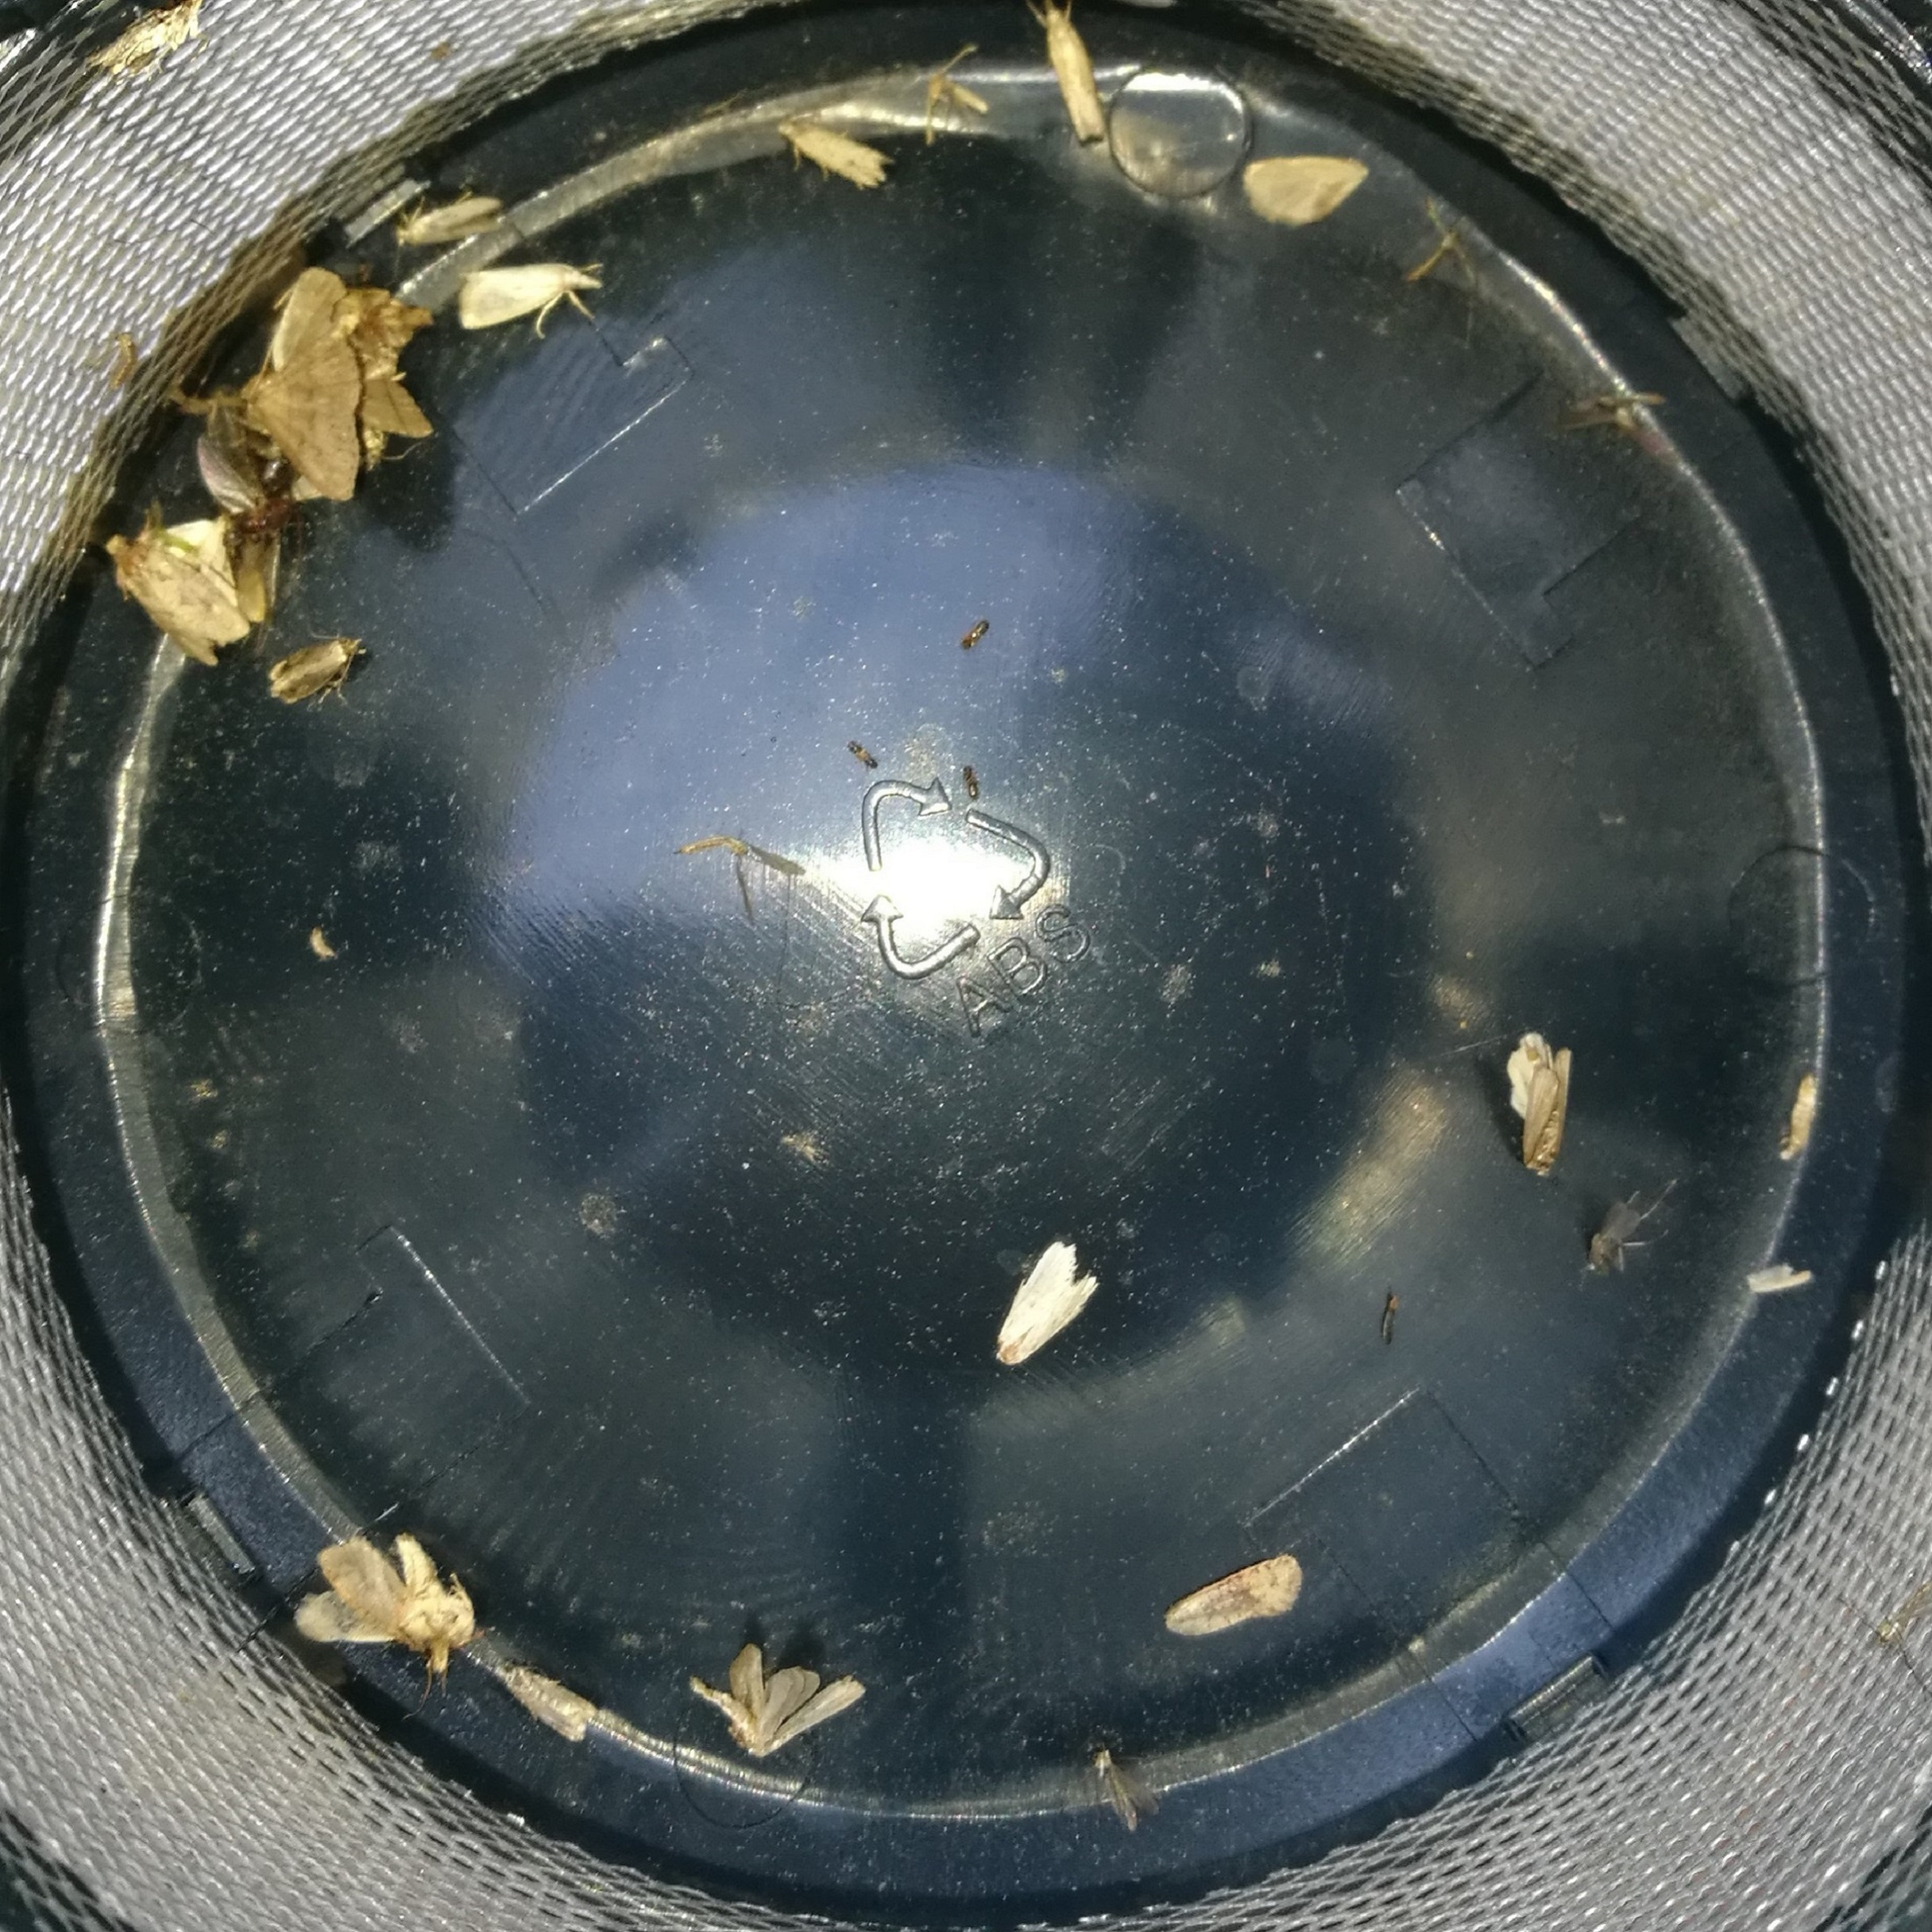mosquito: (1040, 0, 1102, 145), (460, 265, 600, 329), (778, 119, 893, 191), (271, 632, 364, 706), (396, 186, 497, 249)
moth: (239, 269, 359, 502), (301, 1539, 472, 1670), (695, 1645, 862, 1757), (106, 534, 242, 667), (1509, 1035, 1568, 1180)
